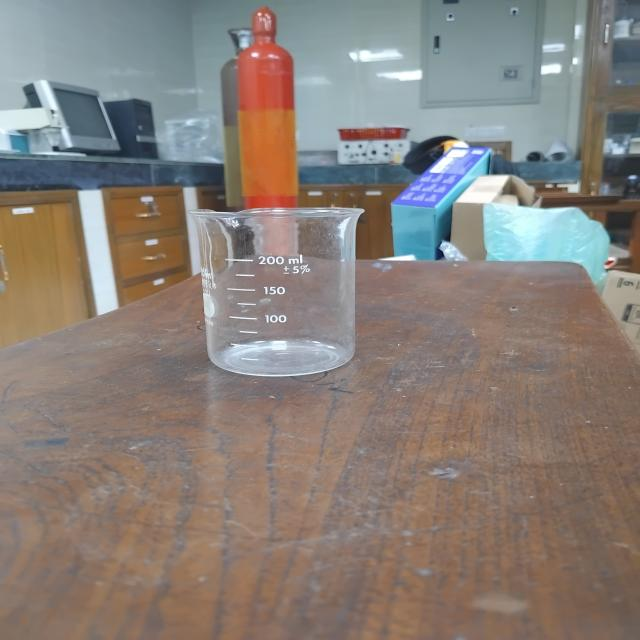Beaker: (157, 175, 417, 395)
